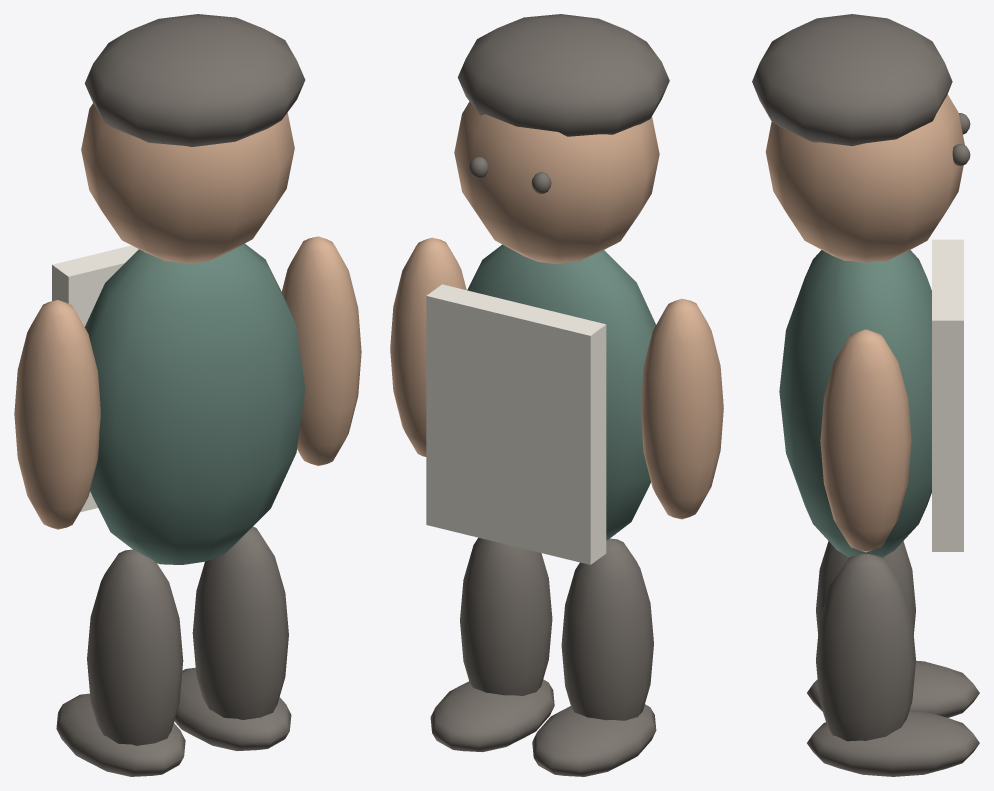
The model's file is neighbor-staff.glb.
3 views of the same model, side by side, from view 1: azimuth 30°, elevation 25°; view 2: azimuth 150°, elevation 25°; view 3: azimuth 270°, elevation 25° (orthographic). The views are drawn at different scales.
Size of the model in its own units: 0.82 by 1.72 by 0.5.
